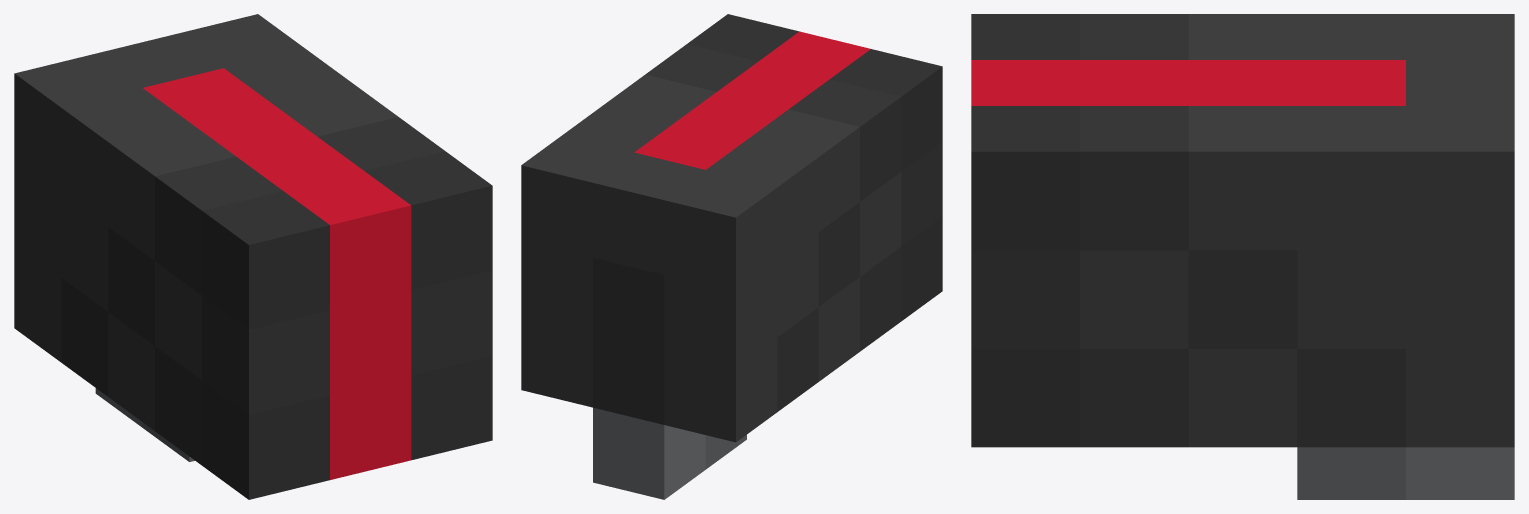
Rendered from wolfneonHead.obj.
The picture shows the model from 3 angles, left to right: view 1: azimuth 30°, elevation 25°; view 2: azimuth 150°, elevation 25°; view 3: azimuth 270°, elevation 25°; orthographic projection. The views are drawn at different scales.
Parts seen in each view (by area): view 1: wolfneonHead; view 2: wolfneonHead; view 3: wolfneonHead.
Part boxes in pixels (<box>): wolfneonHead: <box>14,14,492,499</box>; wolfneonHead: <box>521,14,942,499</box>; wolfneonHead: <box>971,14,1514,499</box>.
Bounding box in the file's own units: 3 × 4 × 5.
1 material, 1 textured.
